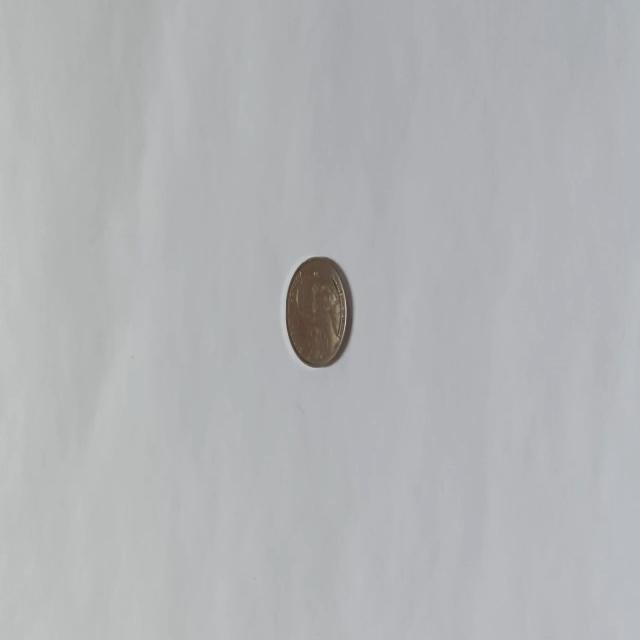seribu rupiah koin: (284, 254, 348, 368)
